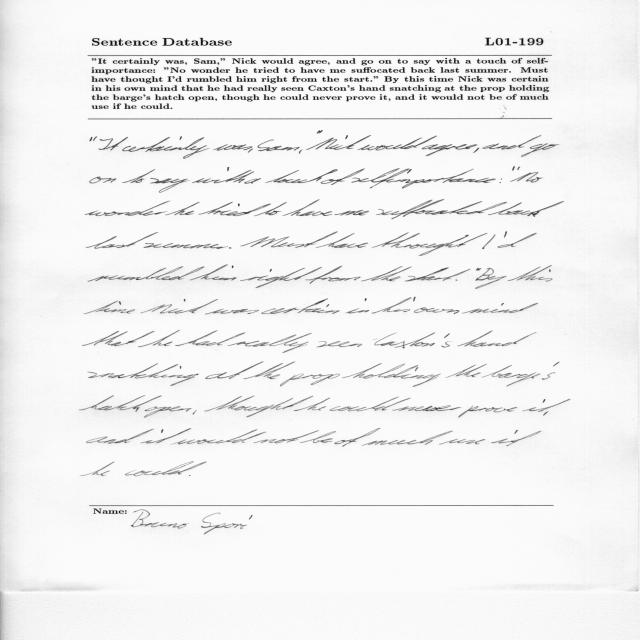word: (266, 167, 521, 189), (372, 232, 487, 256), (376, 199, 507, 219), (88, 363, 199, 386), (342, 363, 441, 387), (205, 396, 314, 417), (122, 136, 209, 159), (482, 362, 560, 387), (88, 267, 205, 282), (240, 267, 322, 288), (227, 333, 312, 353), (261, 298, 367, 314), (240, 232, 338, 248), (171, 429, 267, 445), (79, 395, 162, 412), (361, 431, 453, 446), (457, 330, 537, 347), (85, 201, 170, 216), (86, 232, 158, 249), (488, 201, 564, 217), (374, 333, 450, 349), (330, 397, 411, 412), (357, 136, 437, 151), (141, 299, 218, 314), (125, 462, 207, 476), (87, 429, 163, 444), (176, 330, 246, 346), (83, 331, 155, 346), (198, 202, 271, 216), (306, 266, 361, 284), (206, 362, 264, 379), (306, 135, 371, 150), (405, 268, 471, 282), (483, 135, 542, 150), (244, 362, 296, 379), (335, 428, 381, 447), (283, 199, 333, 216), (254, 431, 319, 444), (192, 170, 254, 183), (491, 430, 541, 446), (316, 233, 368, 248), (280, 374, 340, 387), (361, 266, 412, 281), (140, 429, 191, 444), (462, 303, 538, 313), (190, 265, 237, 281), (372, 297, 416, 314), (508, 265, 553, 281), (248, 139, 299, 153), (84, 300, 135, 314), (138, 330, 180, 347), (458, 406, 517, 418), (475, 268, 507, 289), (422, 144, 477, 156), (497, 232, 537, 248), (523, 399, 571, 412), (446, 364, 488, 378), (144, 406, 192, 418), (150, 178, 188, 193), (522, 143, 560, 157), (144, 243, 228, 249), (80, 462, 115, 476), (317, 339, 378, 347), (294, 398, 330, 411), (122, 169, 155, 183), (254, 202, 287, 216), (165, 202, 200, 215), (300, 431, 336, 443), (393, 405, 462, 411), (99, 137, 128, 150), (510, 172, 543, 183), (205, 309, 259, 315), (414, 308, 459, 315), (439, 439, 485, 445), (214, 144, 253, 151), (335, 210, 369, 216), (483, 234, 496, 249), (90, 177, 116, 184), (346, 309, 369, 314), (244, 178, 261, 184), (473, 148, 479, 153), (543, 411, 549, 416), (93, 136, 97, 141), (317, 131, 323, 134), (193, 410, 197, 414), (476, 268, 481, 271), (299, 150, 302, 154), (90, 137, 92, 141), (227, 167, 229, 171), (229, 248, 232, 249), (501, 178, 502, 180), (499, 182, 501, 183), (456, 280, 458, 281), (189, 475, 191, 476)
